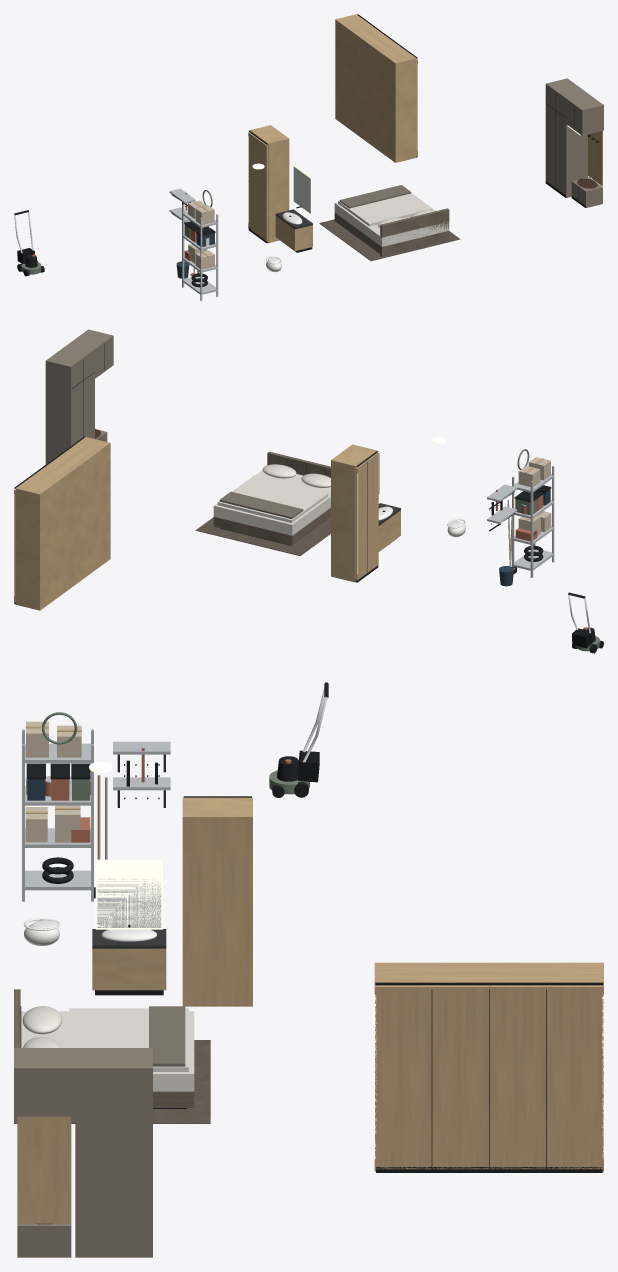
File: dom-interior-02.glb
3 views of the same model, one above another, from view 1: azimuth 30°, elevation 25°; view 2: azimuth 150°, elevation 25°; view 3: azimuth 270°, elevation 25° (orthographic). The views are drawn at different scales.
Visible parts, largest first — view 1: DOM_00920 | HALL-WARDROBE-109-NICHE-2026-08-25 · CARCASE · c, DOM_00949 | ENTRY-FITOUT-2026-08-24 · COATS · celovýšková be, DOM_00942 | HALL-WARDROBE-108-NICHE-2026-08-25 · CARCASE · c, DOM_00976 | BEDROOM-FITOUT-2026-08-24 · BED · mäkká ľanová p, DOM_00972 | BEDROOM-FITOUT-2026-08-24 · BED · nízke čalúnené, DOM_00954 | ENTRY-FITOUT-2026-08-24 · OVERHEAD · horná úložn, DOM_00971 | BEDROOM-FITOUT-2026-08-24 · BED · matrac 1800 × , DOM_00970 | BEDROOM-FITOUT-2026-08-24 · BED · subtílna čalún, DOM_00943 | HALL-WARDROBE-108-NICHE-2026-08-25 · DOOR · bezú, DOM_00968 | BEDROOM-FITOUT-2026-08-24 · BED · veľký vlnený k, DOM_00944 | HALL-WARDROBE-108-NICHE-2026-08-25 · DOOR · bezú, DOM_00816 | ENSUITE-BATHROOM-FITOUT-2026-08-24 · VANITY-900  (+4 smaller); view 2: DOM_00920 | HALL-WARDROBE-109-NICHE-2026-08-25 · CARCASE · c, DOM_00949 | ENTRY-FITOUT-2026-08-24 · COATS · celovýšková be, DOM_00942 | HALL-WARDROBE-108-NICHE-2026-08-25 · CARCASE · c, DOM_00976 | BEDROOM-FITOUT-2026-08-24 · BED · mäkká ľanová p, DOM_00971 | BEDROOM-FITOUT-2026-08-24 · BED · matrac 1800 × , DOM_00968 | BEDROOM-FITOUT-2026-08-24 · BED · veľký vlnený k, DOM_00944 | HALL-WARDROBE-108-NICHE-2026-08-25 · DOOR · bezú, DOM_00970 | BEDROOM-FITOUT-2026-08-24 · BED · subtílna čalún, DOM_00943 | HALL-WARDROBE-108-NICHE-2026-08-25 · DOOR · bezú, DOM_00954 | ENTRY-FITOUT-2026-08-24 · OVERHEAD · horná úložn, DOM_00977 | BEDROOM-FITOUT-2026-08-24 · BED · vlnený prehoz , DOM_00972 | BEDROOM-FITOUT-2026-08-24 · BED · nízke čalúnené (+1 smaller); view 3: DOM_00949 | ENTRY-FITOUT-2026-08-24 · COATS · celovýšková be, DOM_00942 | HALL-WARDROBE-108-NICHE-2026-08-25 · CARCASE · c, DOM_00929 | HALL-WARDROBE-109-NICHE-2026-08-25 · DOOR · bezú, DOM_00922 | HALL-WARDROBE-109-NICHE-2026-08-25 · DOOR · bezú, DOM_00936 | HALL-WARDROBE-109-NICHE-2026-08-25 · DOOR · bezú, DOM_00921 | HALL-WARDROBE-109-NICHE-2026-08-25 · DOOR · bezú, DOM_00956 | ENTRY-FITOUT-2026-08-24 · NICHE · zvislý dubový , DOM_00920 | HALL-WARDROBE-109-NICHE-2026-08-25 · CARCASE · c, DOM_00821 | ENSUITE-BATHROOM-FITOUT-2026-08-24 · VANITY-900 , DOM_00954 | ENTRY-FITOUT-2026-08-24 · OVERHEAD · horná úložn, DOM_00976 | BEDROOM-FITOUT-2026-08-24 · BED · mäkká ľanová p, DOM_00816 | ENSUITE-BATHROOM-FITOUT-2026-08-24 · VANITY-900  (+15 smaller).
Boxes of the visible parts, x1,y1,x2,y2 form: DOM_00920 | HALL-WARDROBE-109-NICHE-2026-08-25 · CARCASE · c: (335, 14, 416, 162); DOM_00949 | ENTRY-FITOUT-2026-08-24 · COATS · celovýšková be: (545, 78, 587, 197); DOM_00942 | HALL-WARDROBE-108-NICHE-2026-08-25 · CARCASE · c: (249, 125, 289, 243); DOM_00976 | BEDROOM-FITOUT-2026-08-24 · BED · mäkká ľanová p: (338, 193, 432, 226); DOM_00972 | BEDROOM-FITOUT-2026-08-24 · BED · nízke čalúnené: (380, 208, 449, 256); DOM_00954 | ENTRY-FITOUT-2026-08-24 · OVERHEAD · horná úložn: (566, 93, 603, 135); DOM_00971 | BEDROOM-FITOUT-2026-08-24 · BED · matrac 1800 × : (334, 202, 449, 246); DOM_00970 | BEDROOM-FITOUT-2026-08-24 · BED · subtílna čalún: (334, 212, 449, 255); DOM_00943 | HALL-WARDROBE-108-NICHE-2026-08-25 · DOOR · bezú: (257, 139, 267, 241); DOM_00968 | BEDROOM-FITOUT-2026-08-24 · BED · veľký vlnený k: (319, 219, 460, 261); DOM_00944 | HALL-WARDROBE-108-NICHE-2026-08-25 · DOOR · bezú: (248, 132, 258, 234); DOM_00816 | ENSUITE-BATHROOM-FITOUT-2026-08-24 · VANITY-900 : (275, 215, 312, 251); DOM_00920 | HALL-WARDROBE-109-NICHE-2026-08-25 · CARCASE · c: (15, 437, 110, 610); DOM_00949 | ENTRY-FITOUT-2026-08-24 · COATS · celovýšková be: (45, 343, 94, 464); DOM_00942 | HALL-WARDROBE-108-NICHE-2026-08-25 · CARCASE · c: (331, 444, 376, 582); DOM_00976 | BEDROOM-FITOUT-2026-08-24 · BED · mäkká ľanová p: (217, 475, 328, 522); DOM_00971 | BEDROOM-FITOUT-2026-08-24 · BED · matrac 1800 × : (213, 470, 330, 535); DOM_00968 | BEDROOM-FITOUT-2026-08-24 · BED · veľký vlnený k: (195, 517, 330, 555); DOM_00944 | HALL-WARDROBE-108-NICHE-2026-08-25 · DOOR · bezú: (356, 461, 367, 580); DOM_00970 | BEDROOM-FITOUT-2026-08-24 · BED · subtílna čalún: (213, 508, 330, 545); DOM_00943 | HALL-WARDROBE-108-NICHE-2026-08-25 · DOOR · bezú: (366, 453, 378, 572); DOM_00954 | ENTRY-FITOUT-2026-08-24 · OVERHEAD · horná úložn: (70, 329, 113, 378); DOM_00977 | BEDROOM-FITOUT-2026-08-24 · BED · vlnený prehoz : (219, 491, 303, 518); DOM_00972 | BEDROOM-FITOUT-2026-08-24 · BED · nízke čalúnené: (267, 451, 330, 477); DOM_00949 | ENTRY-FITOUT-2026-08-24 · COATS · celovýšková be: (75, 1048, 152, 1257); DOM_00942 | HALL-WARDROBE-108-NICHE-2026-08-25 · CARCASE · c: (182, 797, 252, 1006); DOM_00929 | HALL-WARDROBE-109-NICHE-2026-08-25 · DOOR · bezú: (489, 986, 546, 1169); DOM_00922 | HALL-WARDROBE-109-NICHE-2026-08-25 · DOOR · bezú: (432, 986, 488, 1169); DOM_00936 | HALL-WARDROBE-109-NICHE-2026-08-25 · DOOR · bezú: (547, 986, 603, 1169); DOM_00921 | HALL-WARDROBE-109-NICHE-2026-08-25 · DOOR · bezú: (375, 986, 431, 1169); DOM_00956 | ENTRY-FITOUT-2026-08-24 · NICHE · zvislý dubový : (17, 1116, 71, 1223); DOM_00920 | HALL-WARDROBE-109-NICHE-2026-08-25 · CARCASE · c: (374, 962, 603, 1171); DOM_00821 | ENSUITE-BATHROOM-FITOUT-2026-08-24 · VANITY-900 : (95, 859, 162, 929); DOM_00954 | ENTRY-FITOUT-2026-08-24 · OVERHEAD · horná úložn: (14, 1048, 75, 1116); DOM_00976 | BEDROOM-FITOUT-2026-08-24 · BED · mäkká ľanová p: (69, 1008, 188, 1071); DOM_00816 | ENSUITE-BATHROOM-FITOUT-2026-08-24 · VANITY-900 : (92, 948, 166, 990).
Size of the model in its own units: 13.65 by 2.57 by 7.2.
Materials: 21 (6 with a texture image).
